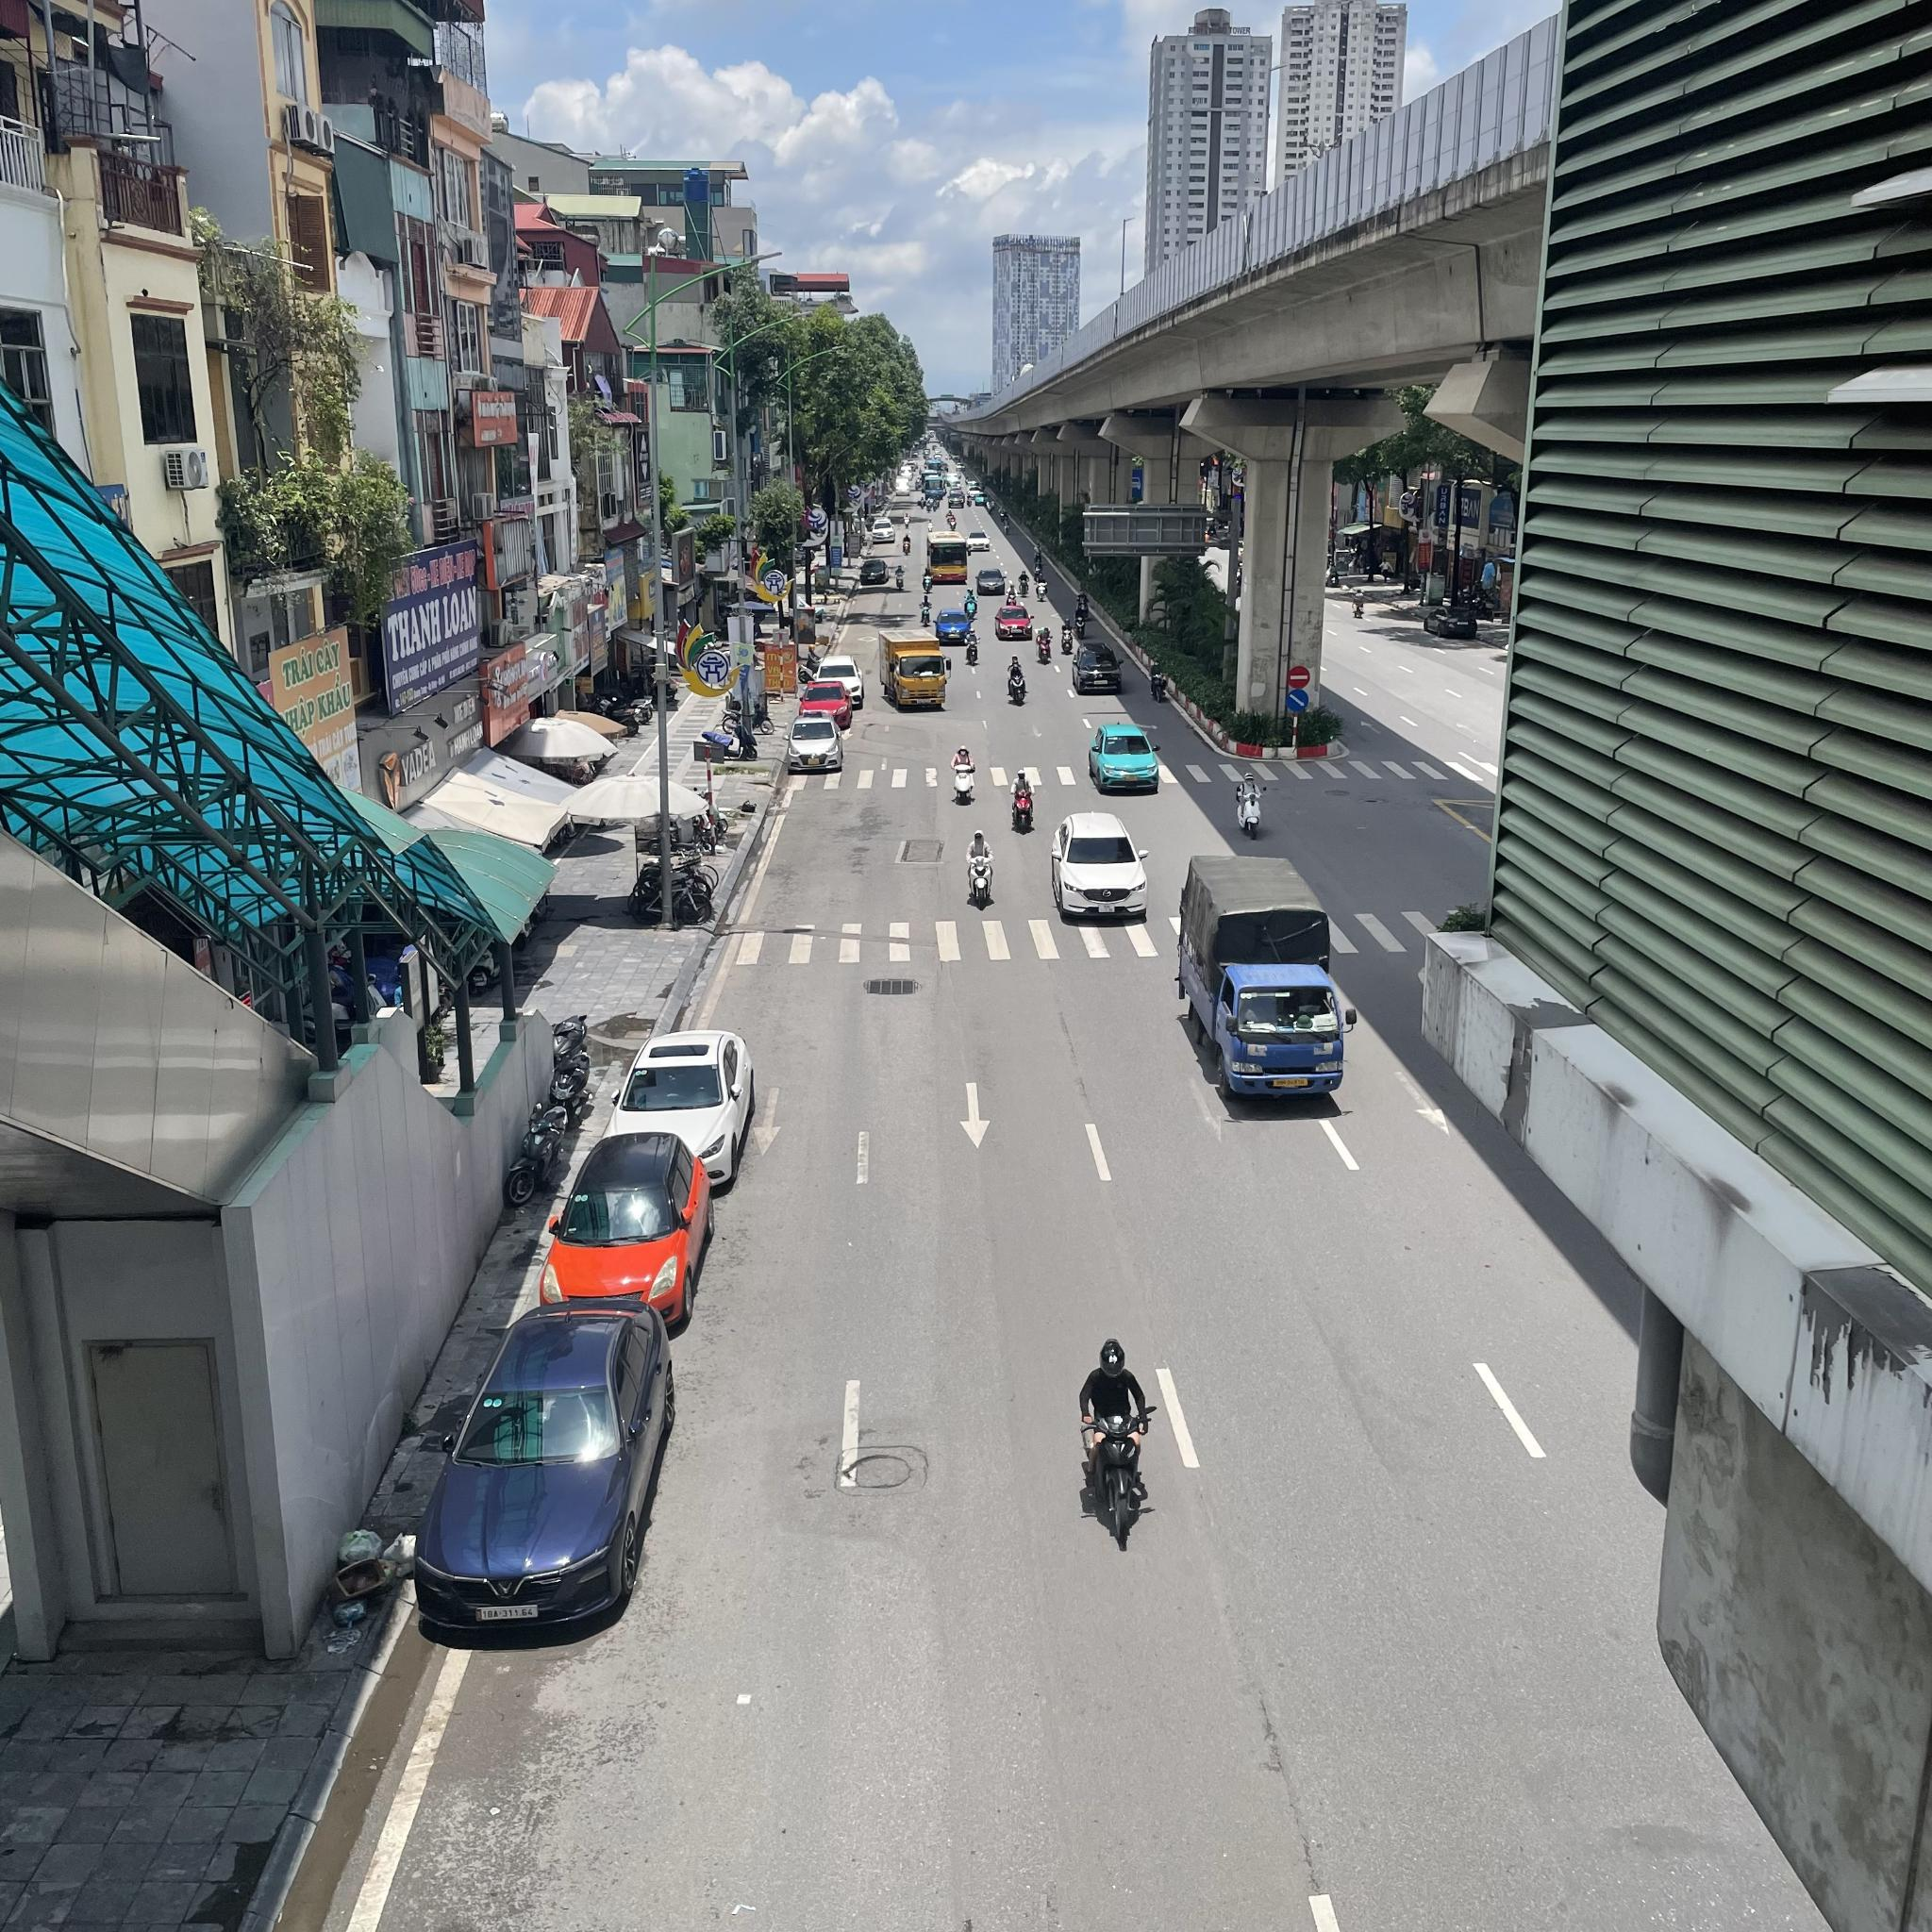car: (410, 1297, 676, 1625), (1176, 854, 1358, 1110), (538, 1130, 715, 1326), (611, 1028, 757, 1189), (1049, 811, 1149, 924), (878, 631, 952, 710), (1088, 721, 1162, 793), (785, 714, 844, 775), (799, 679, 855, 735), (812, 654, 865, 712), (1071, 641, 1124, 693), (926, 531, 969, 581), (993, 605, 1034, 641), (933, 608, 974, 643), (975, 568, 1008, 594), (859, 558, 890, 586), (1142, 911, 1144, 912)
motobike: (1075, 1335, 1157, 1548), (964, 828, 996, 908), (1235, 772, 1268, 841), (1008, 770, 1036, 833), (950, 744, 976, 802), (1007, 655, 1028, 707), (1148, 659, 1169, 701), (963, 628, 982, 666), (1035, 625, 1053, 664), (962, 588, 979, 622), (1060, 618, 1075, 654), (1074, 591, 1091, 621), (1071, 609, 1089, 639), (1006, 584, 1021, 613), (1035, 572, 1049, 599), (920, 594, 932, 625), (921, 568, 935, 593), (1018, 570, 1030, 598), (1031, 542, 1045, 566), (894, 564, 906, 591), (1033, 558, 1043, 583)
